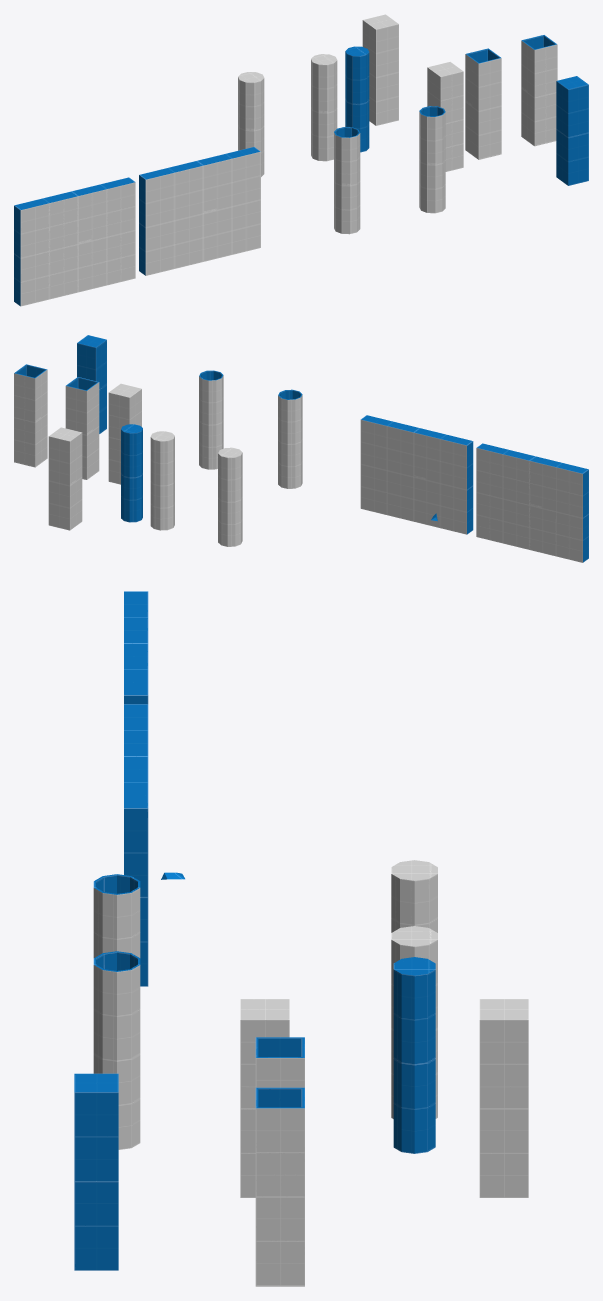
Rendered from Fragged Objects Model _LowPoly.fbx.
3 views of the same model, one above another, from view 1: azimuth 30°, elevation 25°; view 2: azimuth 150°, elevation 25°; view 3: azimuth 270°, elevation 25° (orthographic). The views are drawn at different scales.
Parts seen in each view (by area): view 1: Wall_05x5_LowPoly_Uncut, Pillar_Hollow_1x4_LowPoly, Pillar_Hollow_1x4_Base_LowPoly, Pillar_Solid_1x4_LowPoly, Pillar_Cylinder_Hollow_LowPoly, Pillar_Cylinder_LowPoly, Pillar_Cylinder_Base_LowPoly, Wall_05x5_LowPoly_34, Wall_05x5_LowPoly_37, Wall_05x5_LowPoly_12, Wall_05x5_LowPoly_2, Wall_05x5_LowPoly_6 (+13 smaller); view 2: Wall_05x5_LowPoly_Uncut, Pillar_Solid_1x4_LowPoly, Pillar_Hollow_1x4_LowPoly, Pillar_Cylinder_LowPoly, Pillar_Cylinder_Hollow_LowPoly, Pillar_Cylinder_Base_LowPoly, Pillar_Hollow_1x4_Base_LowPoly, Wall_05x5_LowPoly_34, Wall_05x5_LowPoly_12, Wall_05x5_LowPoly_32, Wall_05x5_LowPoly_37, Wall_05x5_LowPoly_6 (+14 smaller); view 3: Pillar_Solid_1x4_LowPoly, Pillar_Hollow_1x4_Base_LowPoly, Pillar_Cylinder_Base_LowPoly, Pillar_Cylinder_Hollow_LowPoly, Wall_05x5_LowPoly_Uncut, Pillar_Hollow_1x4_LowPoly, Pillar_Cylinder_LowPoly, Pillar_Hollow_1x4_LowPoly_17, Pillar_Hollow_1x4_LowPoly_35, Pillar_Cylinder_Solid_LowPoly_2, Pillar_Solid_1x4_LowPoly_34, Wall_05x5_LowPoly_34 (+3 smaller).
Boxes of the visible parts, <box> form: Wall_05x5_LowPoly_Uncut: <box>139,147,260,275</box>; Pillar_Hollow_1x4_LowPoly: <box>465,48,501,159</box>; Pillar_Hollow_1x4_Base_LowPoly: <box>556,76,588,185</box>; Pillar_Solid_1x4_LowPoly: <box>362,14,398,125</box>; Pillar_Cylinder_Hollow_LowPoly: <box>419,106,445,213</box>; Pillar_Cylinder_LowPoly: <box>311,54,337,161</box>; Pillar_Cylinder_Base_LowPoly: <box>345,46,369,152</box>; Wall_05x5_LowPoly_34: <box>94,177,135,209</box>; Wall_05x5_LowPoly_37: <box>102,205,135,243</box>; Wall_05x5_LowPoly_12: <box>14,200,42,229</box>; Wall_05x5_LowPoly_2: <box>14,228,41,255</box>; Wall_05x5_LowPoly_6: <box>56,263,81,297</box>; Wall_05x5_LowPoly_Uncut: <box>360,415,473,534</box>; Pillar_Solid_1x4_LowPoly: <box>48,427,82,530</box>; Pillar_Hollow_1x4_LowPoly: <box>65,377,99,479</box>; Pillar_Cylinder_LowPoly: <box>150,431,174,530</box>; Pillar_Cylinder_Hollow_LowPoly: <box>199,370,223,469</box>; Pillar_Cylinder_Base_LowPoly: <box>121,424,142,522</box>; Pillar_Hollow_1x4_Base_LowPoly: <box>77,335,106,433</box>; Wall_05x5_LowPoly_34: <box>476,443,514,471</box>; Wall_05x5_LowPoly_12: <box>562,464,588,494</box>; Wall_05x5_LowPoly_32: <box>568,530,588,562</box>; Wall_05x5_LowPoly_37: <box>476,468,504,501</box>; Wall_05x5_LowPoly_6: <box>525,525,548,553</box>; Pillar_Solid_1x4_LowPoly: <box>479,999,528,1197</box>; Pillar_Hollow_1x4_Base_LowPoly: <box>74,1073,118,1270</box>; Pillar_Cylinder_Base_LowPoly: <box>393,957,435,1153</box>; Pillar_Cylinder_Hollow_LowPoly: <box>93,951,140,1149</box>; Wall_05x5_LowPoly_Uncut: <box>124,704,148,986</box>; Pillar_Hollow_1x4_LowPoly: <box>255,1037,304,1087</box>; Pillar_Cylinder_LowPoly: <box>391,926,437,1118</box>; Pillar_Hollow_1x4_LowPoly_17: <box>255,1087,296,1143</box>; Pillar_Hollow_1x4_LowPoly_35: <box>255,1223,302,1259</box>; Pillar_Cylinder_Solid_LowPoly_2: <box>391,860,437,891</box>; Pillar_Solid_1x4_LowPoly_34: <box>240,999,269,1046</box>; Wall_05x5_LowPoly_34: <box>124,663,148,704</box>.
Size of the model in its own units: 2488 by 400 by 924.
